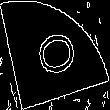O_W: (29, 27, 81, 83)
